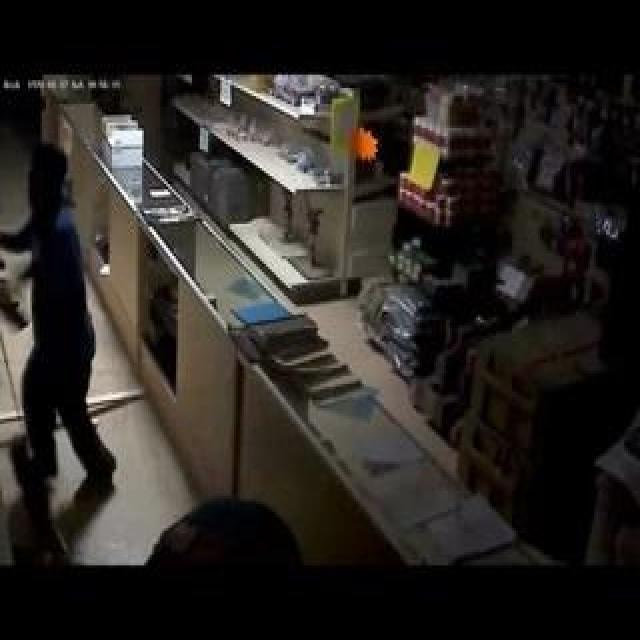thief: (117, 519, 276, 640), (7, 159, 120, 245)
